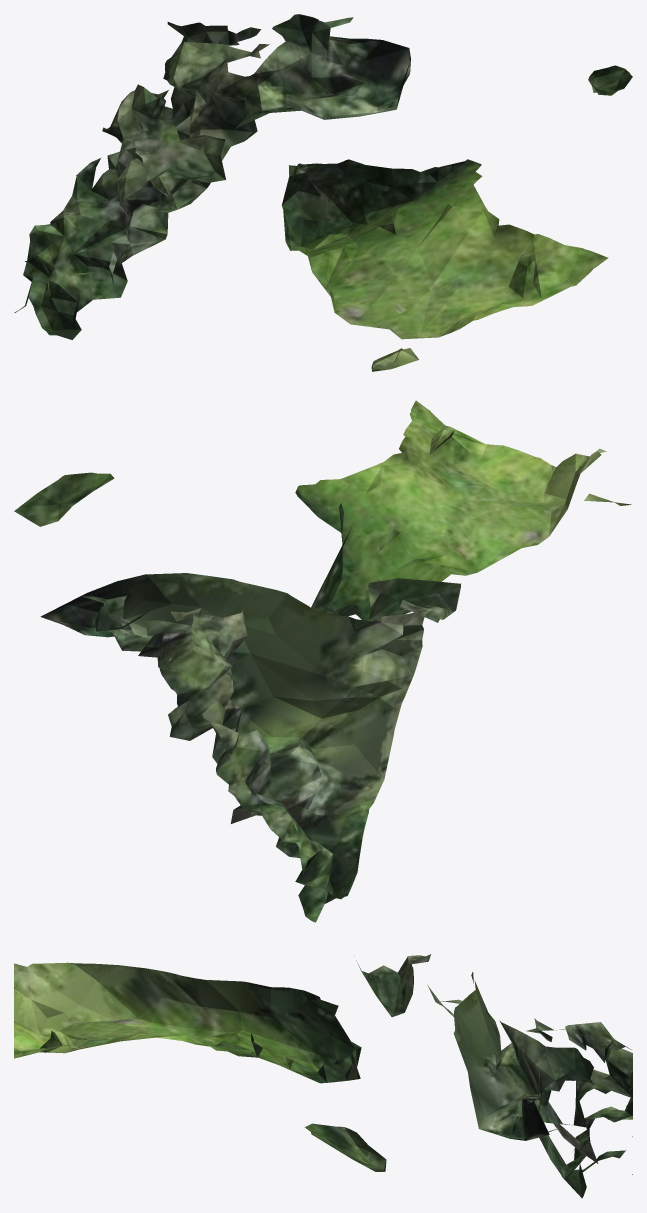
The picture shows the model from 3 angles, top to bottom: view 1: azimuth 30°, elevation 25°; view 2: azimuth 150°, elevation 25°; view 3: azimuth 270°, elevation 25°; orthographic projection. The views are drawn at different scales.
Size of the model in its own units: 40.22 by 21.85 by 52.22.
Materials: 2 (2 with a texture image).
